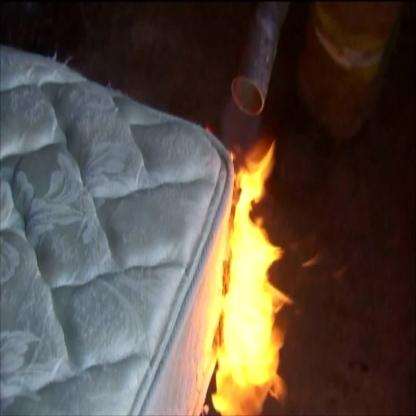fire: (211, 137, 299, 406)
